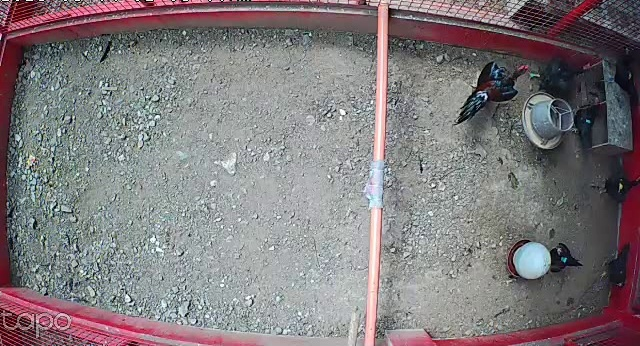Chicken: (527, 55, 596, 102), (595, 41, 640, 107), (567, 95, 603, 154), (596, 242, 631, 288), (547, 239, 584, 273)
Rooster: (455, 60, 529, 126)
Saddle_Color_Blue: (584, 118, 592, 123)
